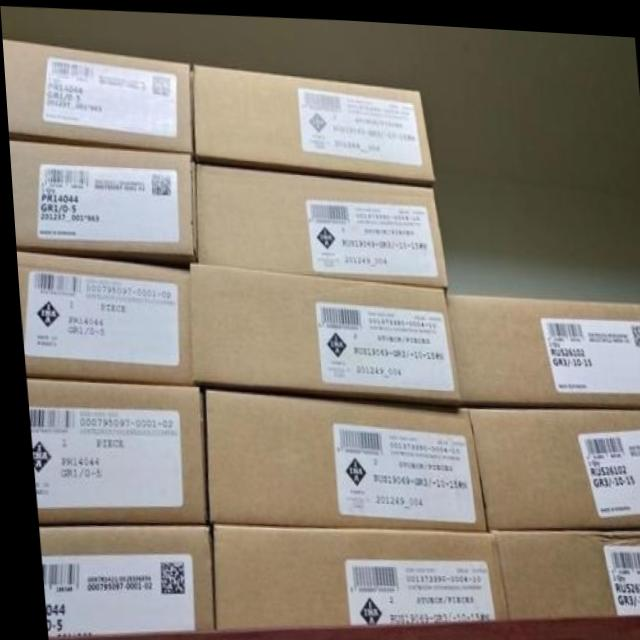box: (199, 386, 482, 526), (186, 260, 455, 399), (204, 521, 502, 629), (193, 159, 443, 283), (191, 61, 433, 182), (21, 378, 202, 525), (7, 140, 194, 265), (13, 250, 188, 383), (443, 289, 640, 401), (464, 402, 640, 522), (2, 38, 191, 149), (31, 523, 207, 637), (488, 520, 640, 612)
